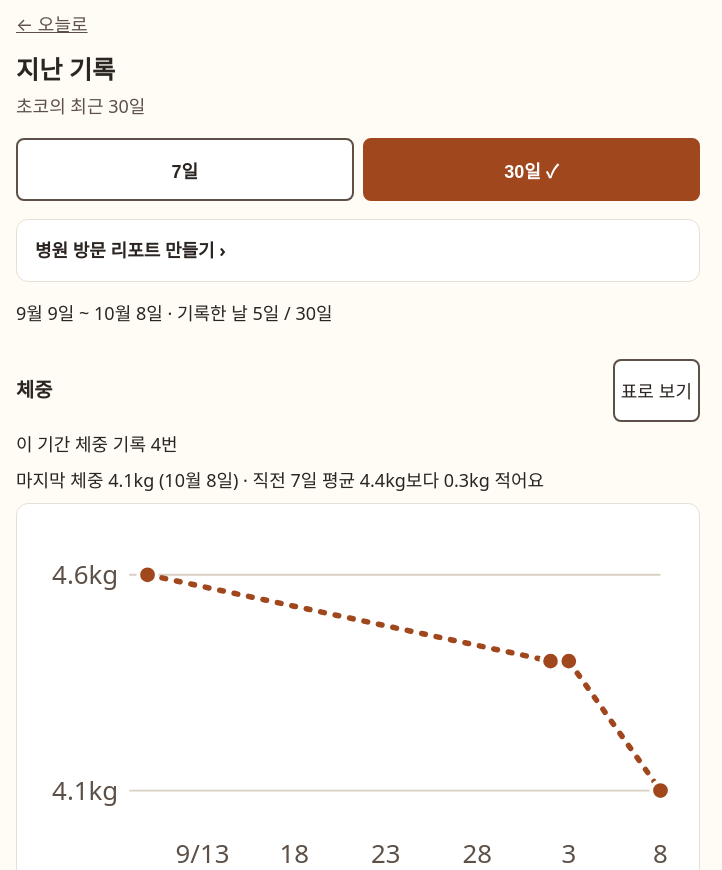
Scenario: H1 지난 기록 › 표로 보기 토글: 표(caption)가 나오고 다시 누르면 그래프
This screenshot has width=722, height=870.
Check: the text "9월 9일 ~ 10월 8일 · 기록한 날 5일 / 30일" is shown, box [16,301,333,325]
Click the button "표로 보기" at (656, 390), box [613,359,700,422]
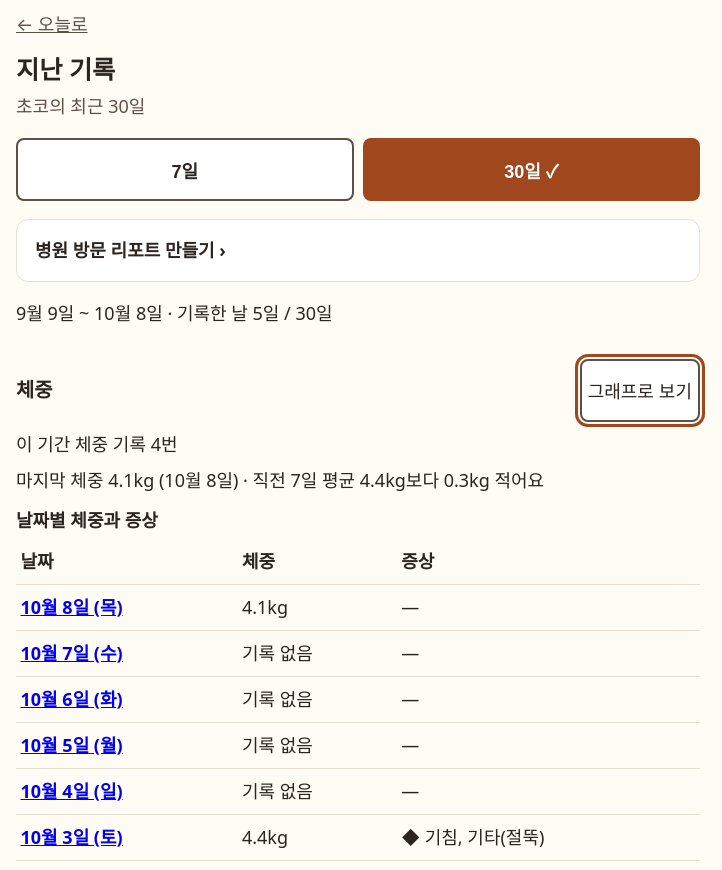
Check: the text "날짜별 체중과 증상" is shown, box [16,508,158,532]
Check: the text "◆ 기침, 기타(절뚝)" is shown, box [397,814,700,860]
